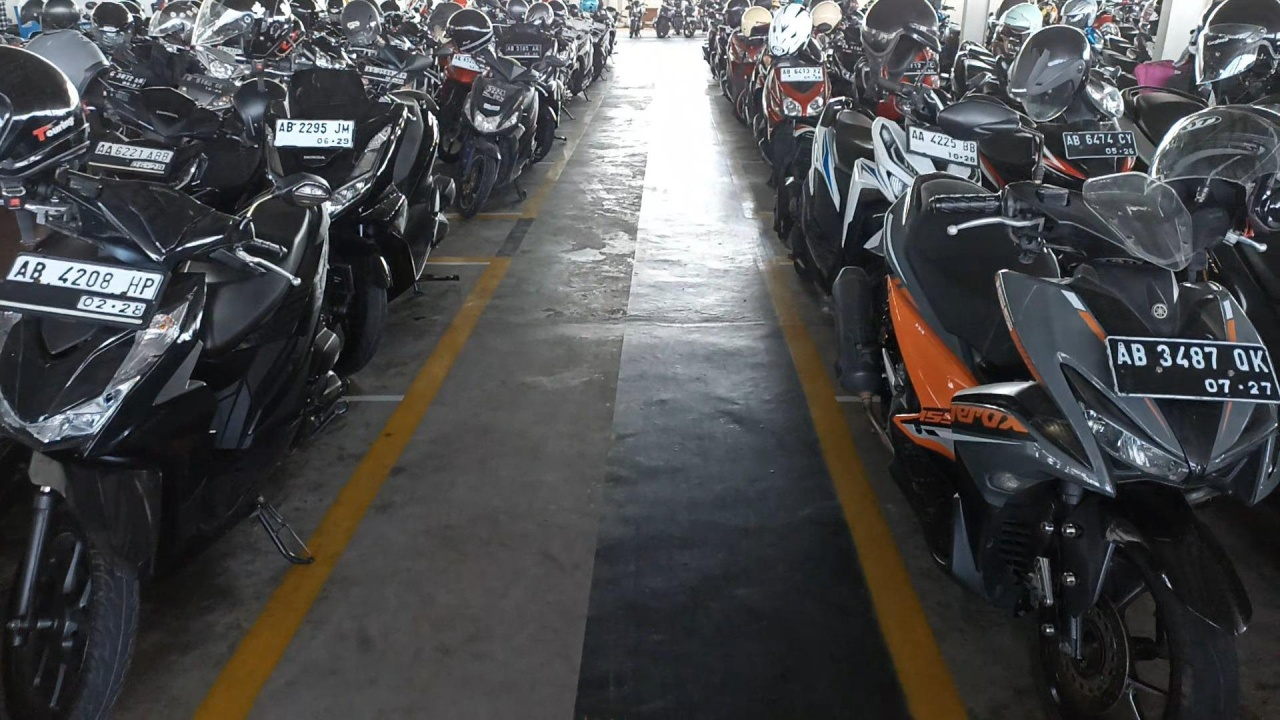plate: (0, 252, 168, 327), (1106, 337, 1280, 402), (86, 140, 178, 175), (908, 125, 979, 167), (274, 119, 354, 148), (1064, 132, 1138, 158), (780, 66, 824, 82)
